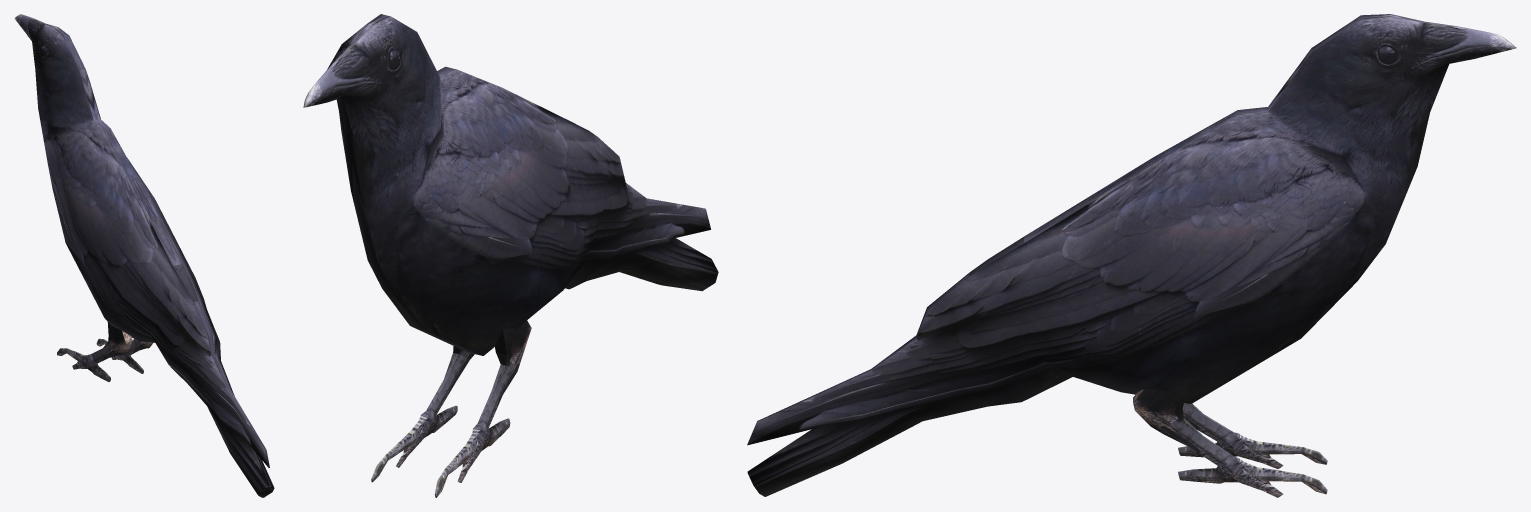
File: stupid_crow.glb
The picture shows the model from 3 angles, left to right: view 1: azimuth 30°, elevation 25°; view 2: azimuth 150°, elevation 25°; view 3: azimuth 270°, elevation 25°; orthographic projection. The views are drawn at different scales.
Parts seen in each view (by area): view 1: Cube; view 2: Cube; view 3: Cube.
Boxes of the visible parts, left/top/right/bottom form: Cube: left=14, top=14, right=274, bottom=497; Cube: left=303, top=14, right=718, bottom=497; Cube: left=747, top=14, right=1516, bottom=497.
Size of the model in its own units: 0.7189 by 3 by 4.35.
1 material, 1 textured.
